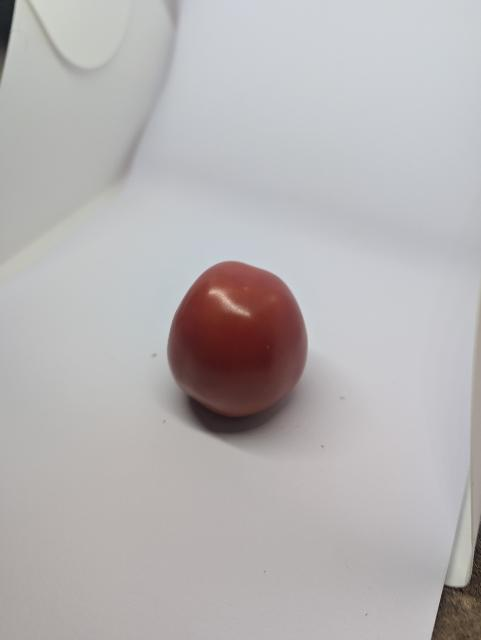red: (163, 254, 314, 438)
